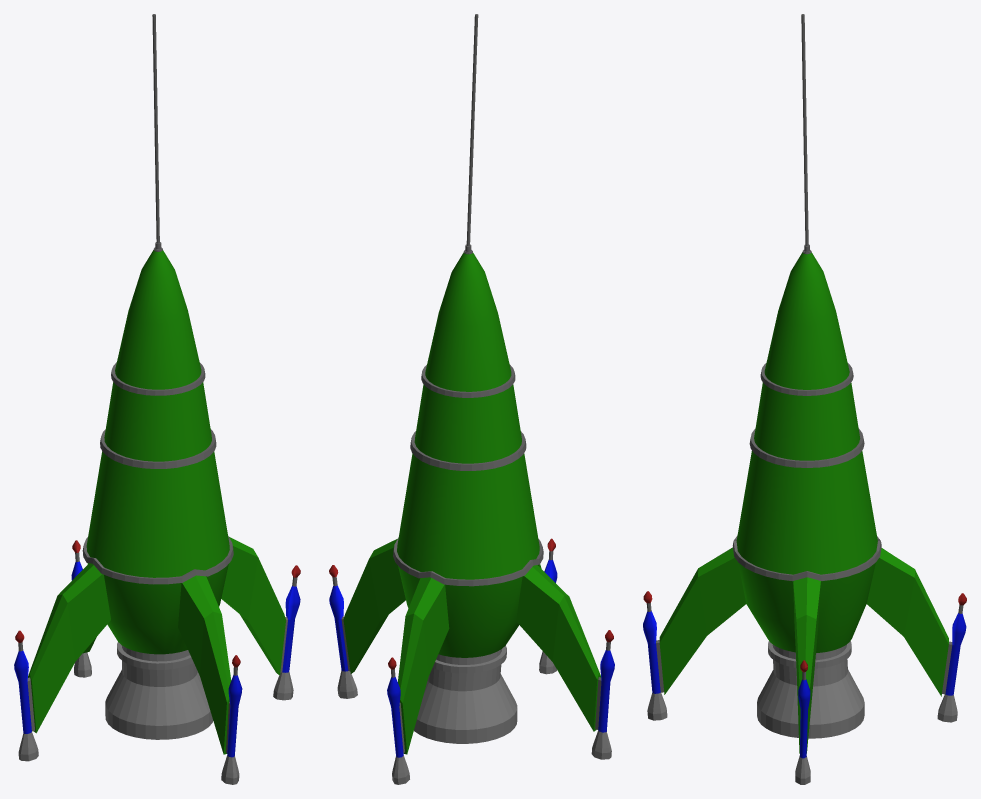
Rendered from Rakete1.fbx.
3 views of the same model, side by side, from view 1: azimuth 30°, elevation 25°; view 2: azimuth 150°, elevation 25°; view 3: azimuth 270°, elevation 25° (orthographic).
Parts seen in each view (by area): view 1: Cylinder; view 2: Cylinder; view 3: Cylinder.
Part boxes in pixels (left/top/right/bottom): Cylinder: left=14, top=14, right=300, bottom=784; Cylinder: left=329, top=14, right=614, bottom=784; Cylinder: left=643, top=14, right=966, bottom=784.
Size of the model in its own units: 11688 by 28026 by 11686.
